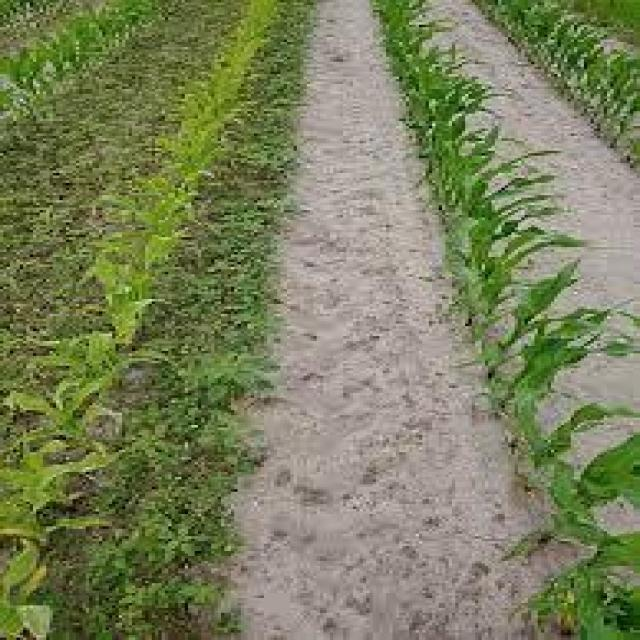row: (21, 0, 562, 640), (0, 0, 247, 485), (428, 0, 640, 550), (0, 0, 118, 66), (556, 4, 640, 71)
